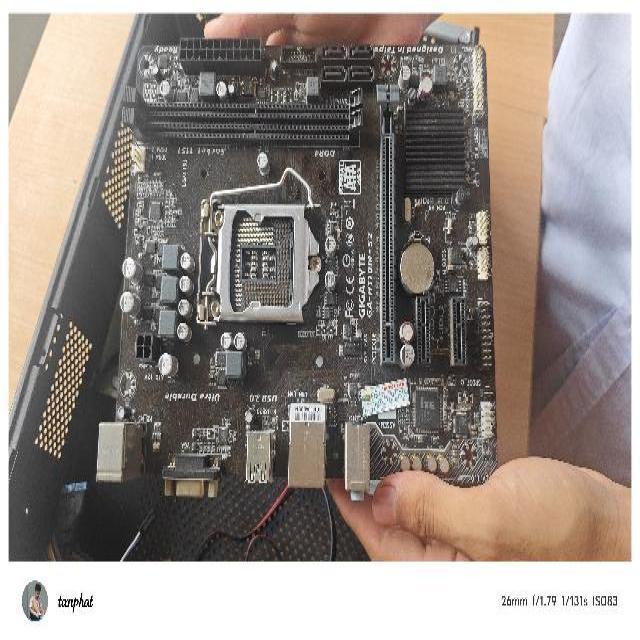Mainboard: (101, 20, 498, 498)
